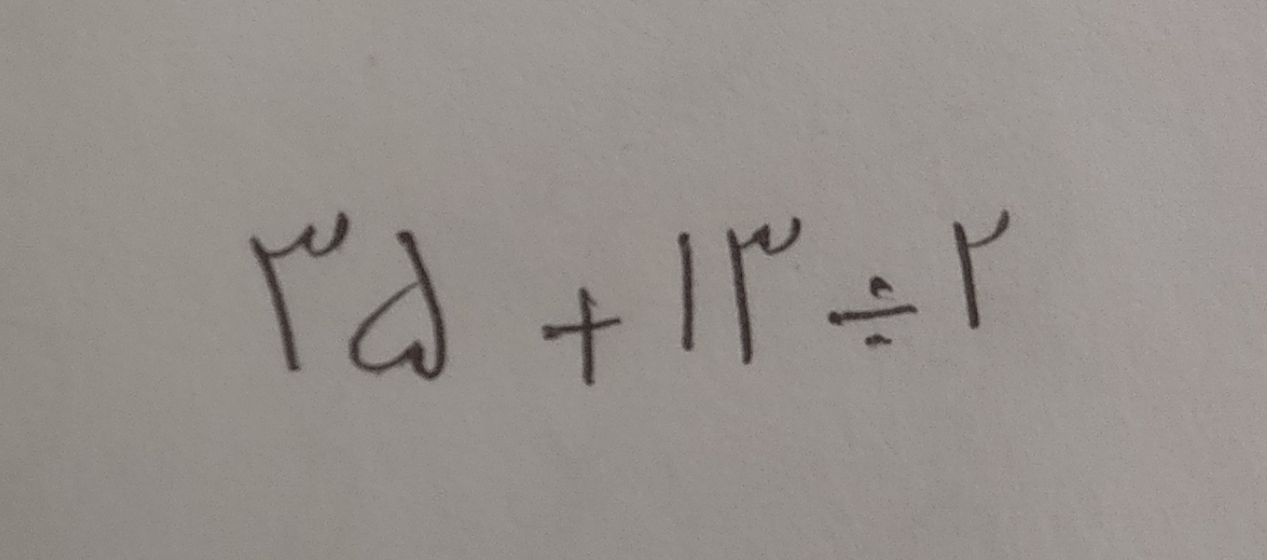character: (246, 210, 360, 383), (347, 229, 456, 393), (724, 218, 812, 379), (537, 286, 635, 391), (952, 210, 1022, 342), (826, 276, 926, 357), (673, 233, 716, 370)
